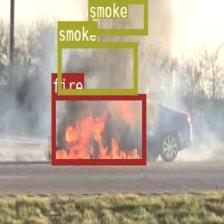fire: (51, 93, 145, 164)
smoke: (57, 41, 137, 93), (88, 0, 146, 34)
